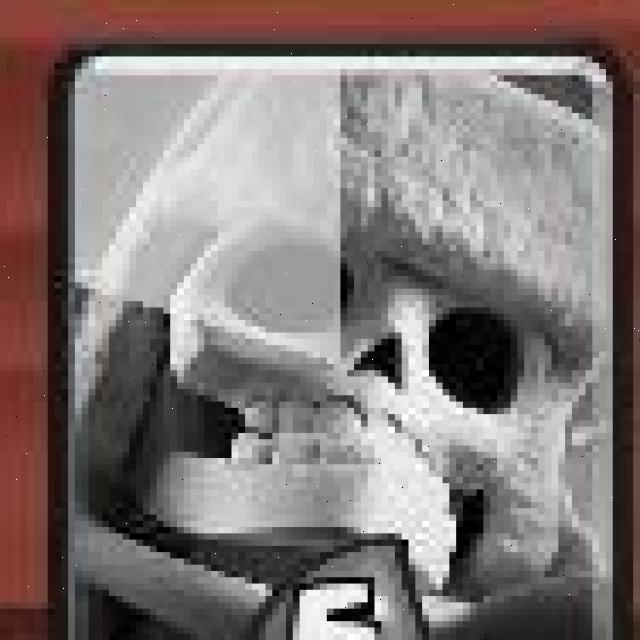Giant_Skeleton: (54, 46, 627, 640)
